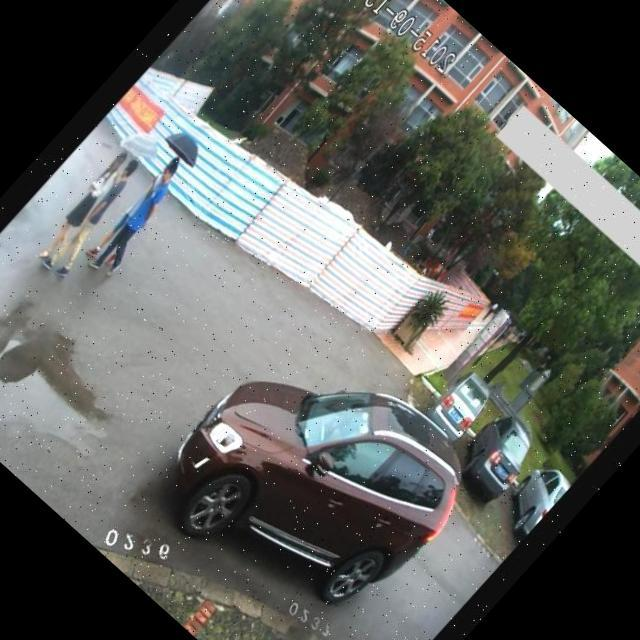person: (34, 150, 158, 284), (80, 162, 196, 286), (20, 144, 135, 269)
